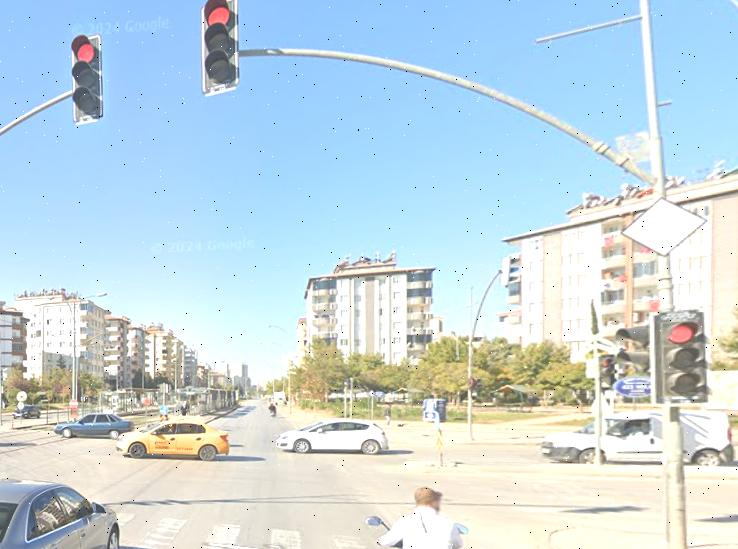redlight: (654, 307, 705, 404), (199, 2, 240, 91), (72, 35, 109, 125)
